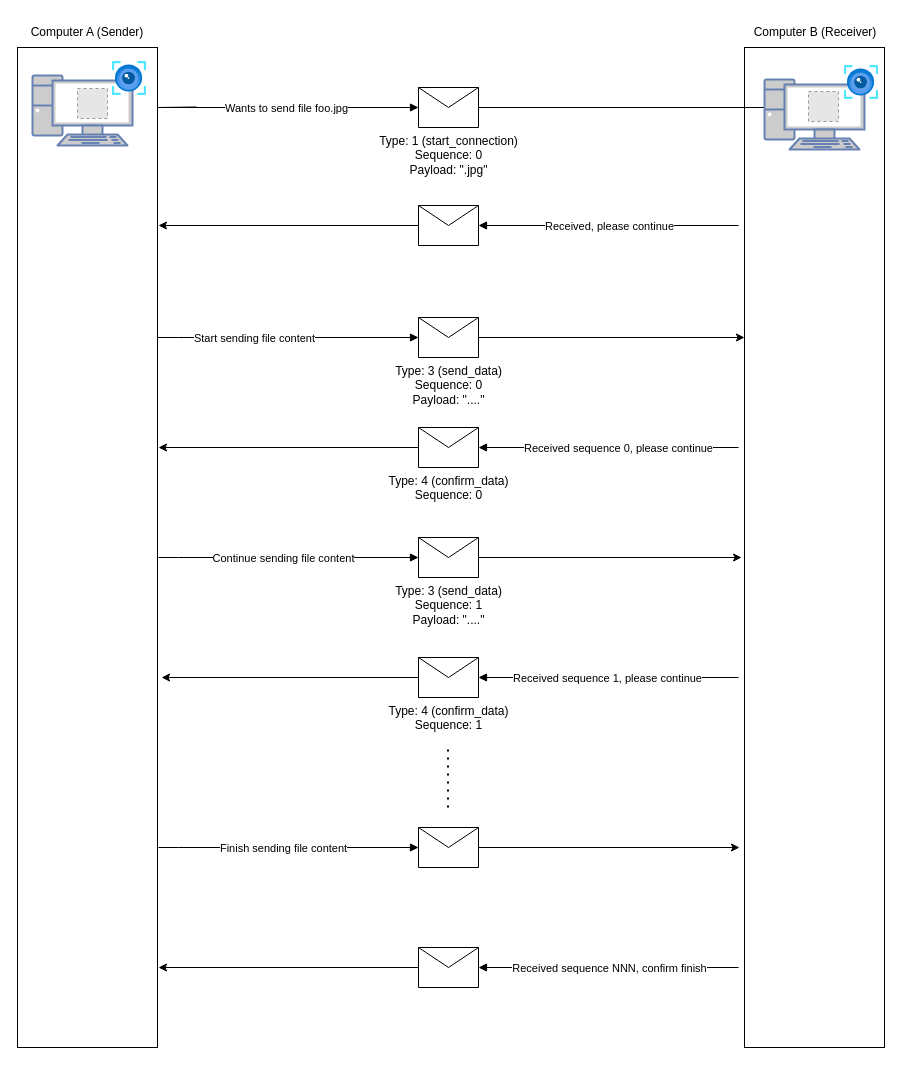
Image size: 903x1065. Some labels were removed from this diagram. Grey dashed boxes stand in for pictures. Here are the shapes that lost their labels. From the top down, the box of each, then its label:
(418, 204, 478, 246): Type: 2 (confirm_connection) Sequence: 0
(418, 826, 478, 868): Type: 6 (finish) Sequence: NNN Payload: "...."
(418, 946, 478, 988): Type: 7 (confirm_finish) Sequence: NNN
